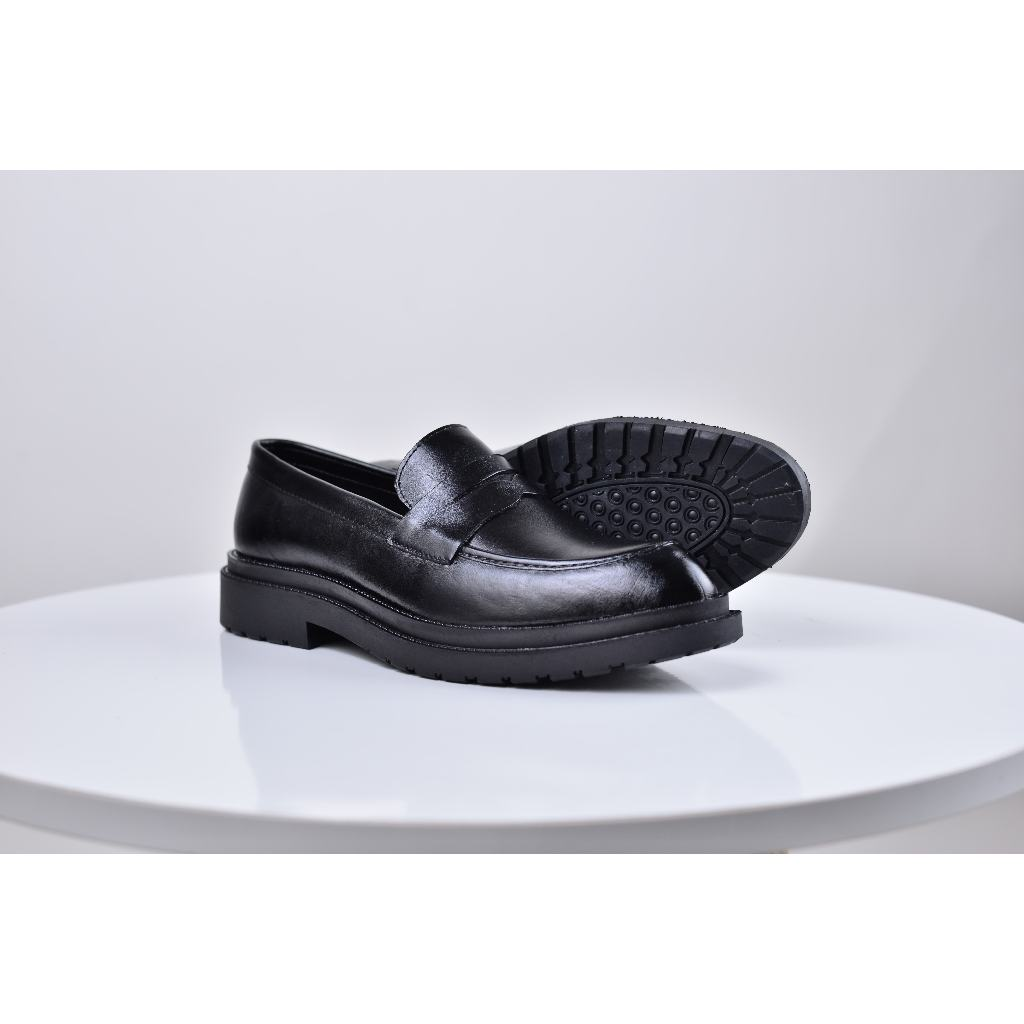loafers: (216, 422, 747, 690), (491, 416, 809, 595)
